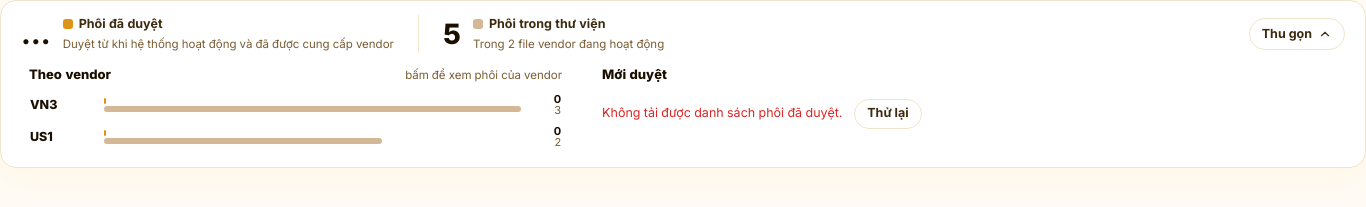
Test: ApprovedPhoiPanel › tải lỗi thì báo và cho thử lại
Check: the message shows "Không tải được danh sách phôi đã duyệt.", box [602,105,842,120]
Click the button "Thử lại" at (888, 114), box [854,98,922,128]
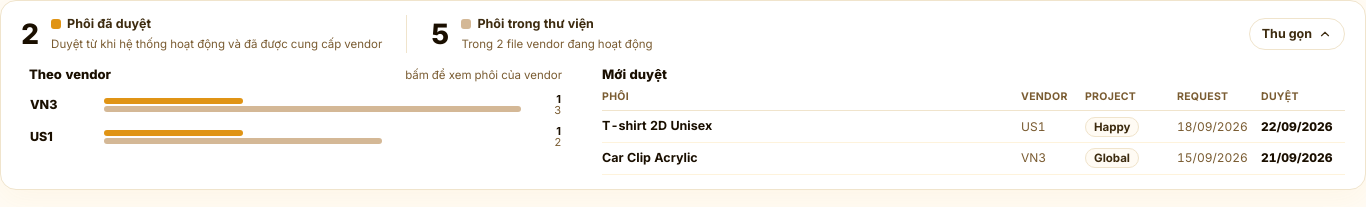
Check: the text "T-shirt 2D Unisex" is shown, box [602,118,712,133]
